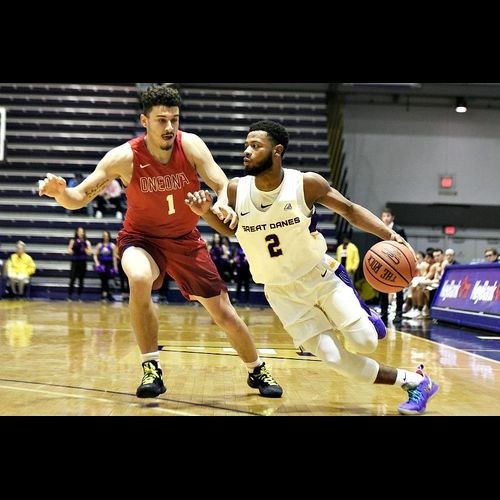ball: (364, 239, 415, 292)
